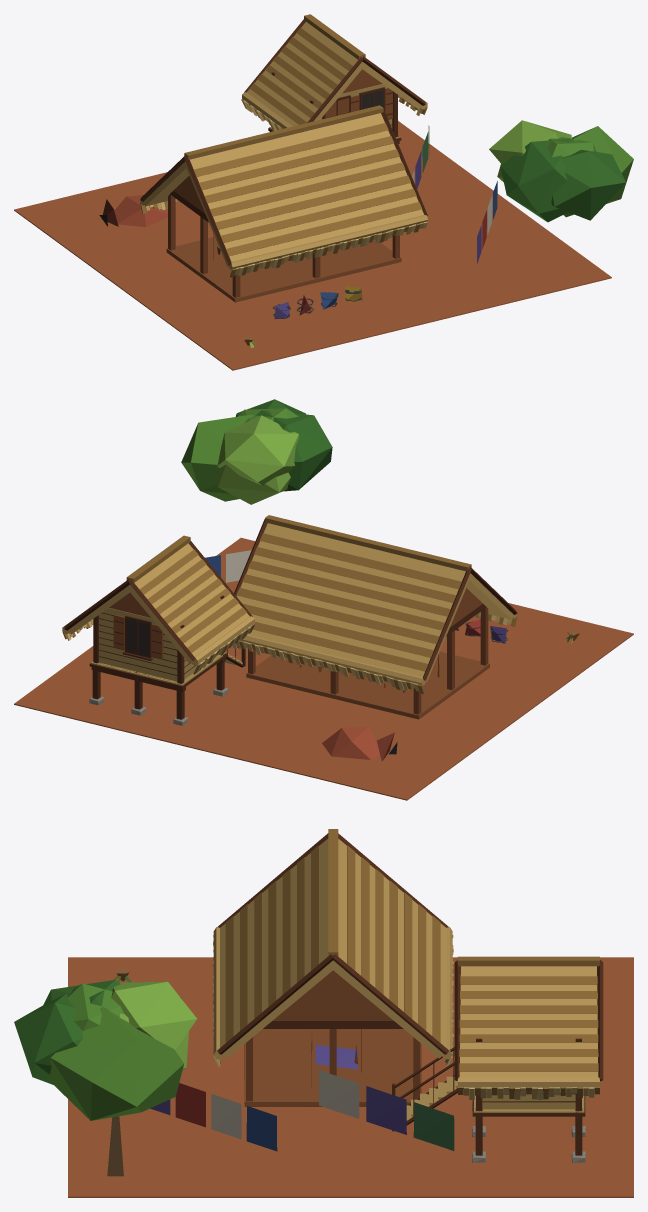
File: factory_1.glb
The picture shows the model from 3 angles, top to bottom: view 1: azimuth 30°, elevation 25°; view 2: azimuth 150°, elevation 25°; view 3: azimuth 270°, elevation 25°; orthographic projection. The views are drawn at different scales.
Parts seen in each view (by area): view 1: body; view 2: body, windows; view 3: body.
Boxes of the visible parts, x1,y1,x2,y2 form: body: [14, 14, 633, 370]; body: [14, 399, 633, 800]; windows: [126, 618, 148, 656]; body: [14, 829, 633, 1197].
Size of the model in its own units: 17.22 by 5.88 by 17.42.
